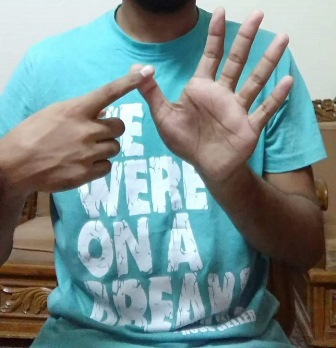a: (51, 7, 295, 168)
